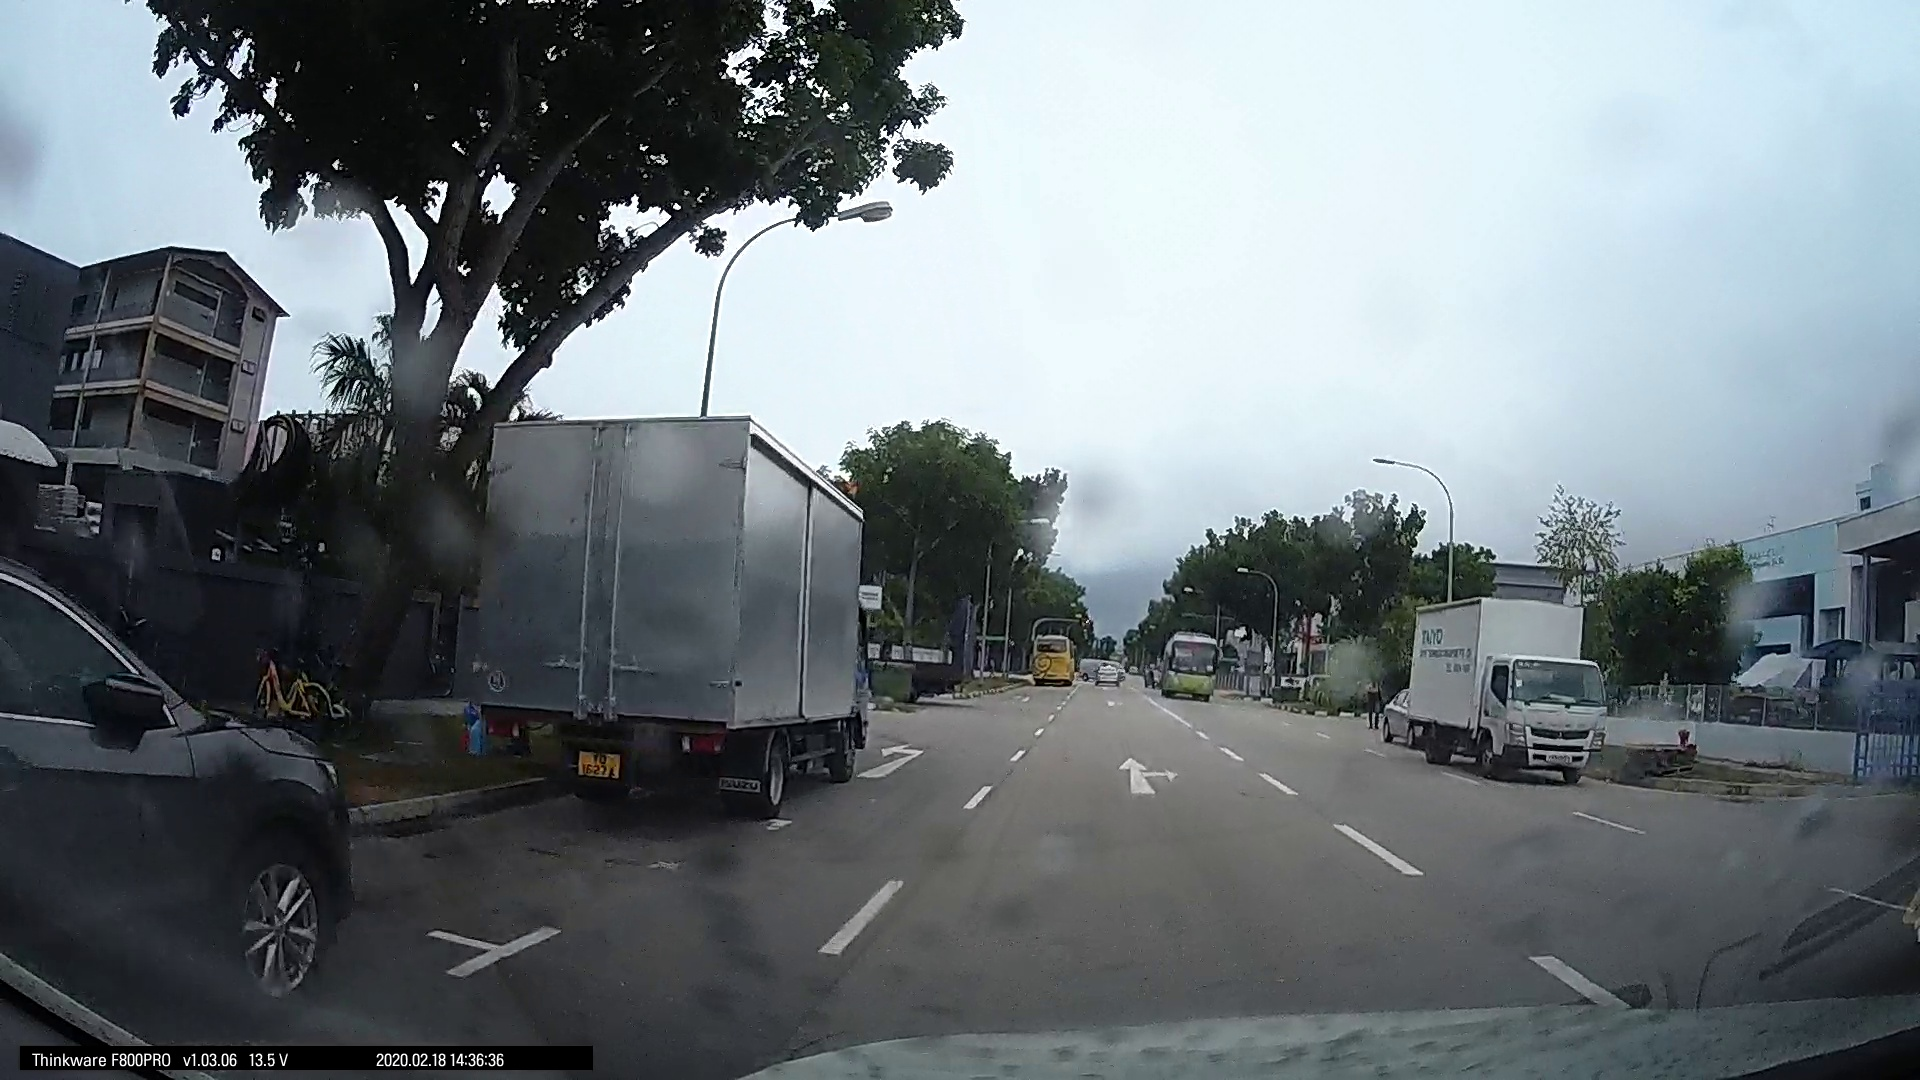Heavy Vehicle: (1, 311, 816, 963), (1485, 579, 1891, 1007), (1648, 465, 1902, 989)
Light Vehicle: (1282, 679, 1452, 785), (1147, 651, 1276, 712), (947, 651, 1029, 727), (1022, 645, 1116, 699)
